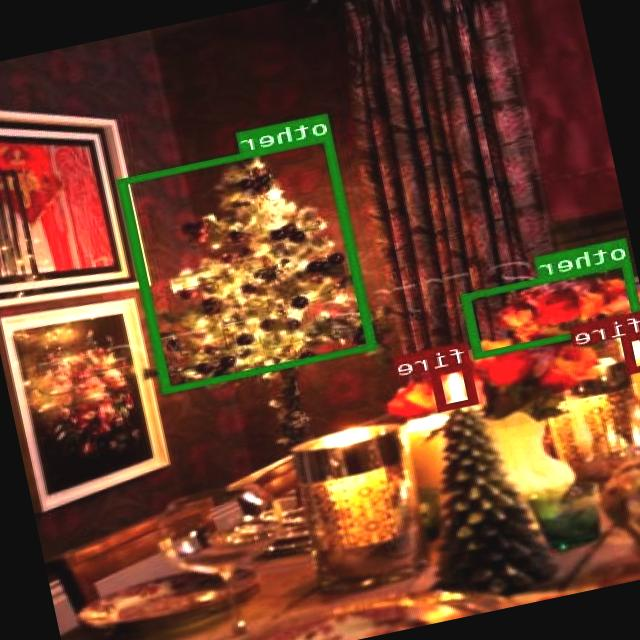fire: (432, 360, 480, 410), (623, 329, 640, 372)
